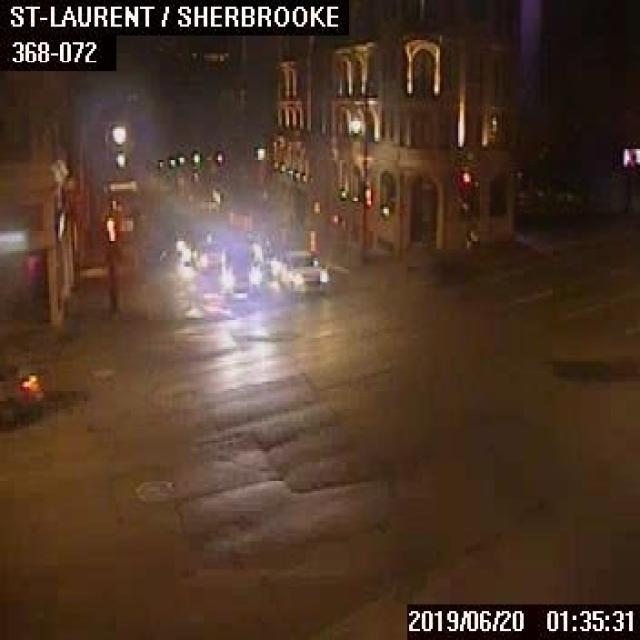construction: (308, 228, 315, 249)
vehicle: (0, 362, 45, 424), (275, 247, 326, 293), (218, 249, 260, 293), (192, 238, 222, 269), (182, 236, 202, 264)
